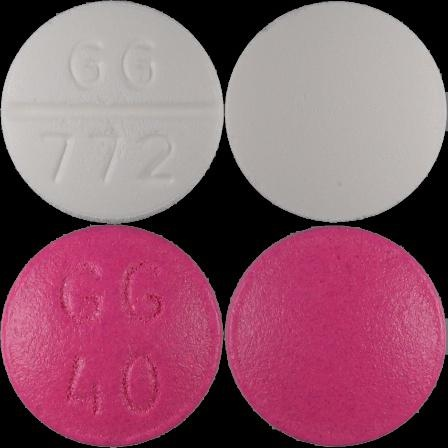0781-1453: (0, 0, 224, 224)
